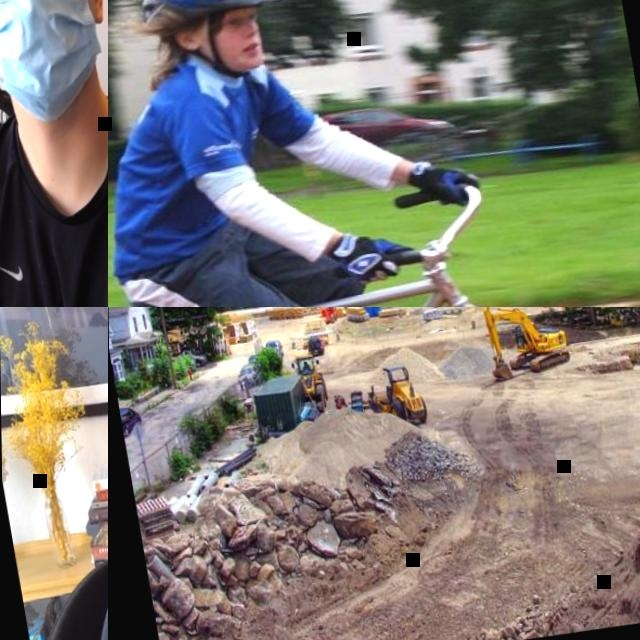Hardhat: (117, 0, 291, 37)
Mask: (0, 0, 108, 133)
NO-Mask: (187, 33, 264, 77)
NO-Safety Vest: (108, 52, 335, 285), (0, 97, 108, 307)
Person: (108, 0, 539, 307), (0, 307, 108, 640), (0, 0, 108, 307)
machinery: (479, 307, 569, 383), (357, 359, 427, 434), (290, 351, 329, 416)
vehicle: (118, 403, 145, 439), (169, 347, 208, 371), (234, 361, 258, 387), (262, 338, 283, 360), (306, 334, 324, 357), (246, 351, 260, 365)
